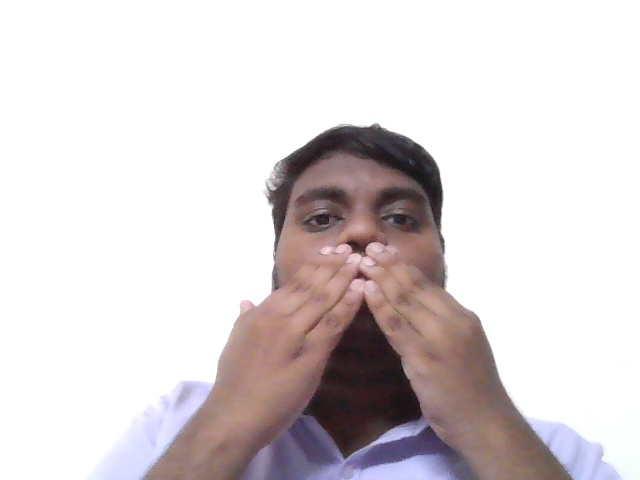Thank you: (171, 241, 539, 435)
